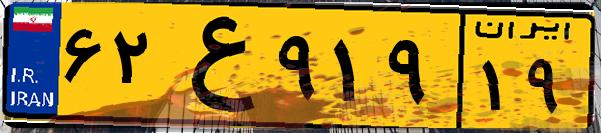1: (330, 28, 385, 110), (475, 38, 525, 113)
2: (110, 28, 158, 98)
6: (57, 26, 110, 100)
9: (270, 28, 330, 110), (385, 28, 445, 110), (525, 38, 570, 115)
ع: (158, 12, 270, 120)
